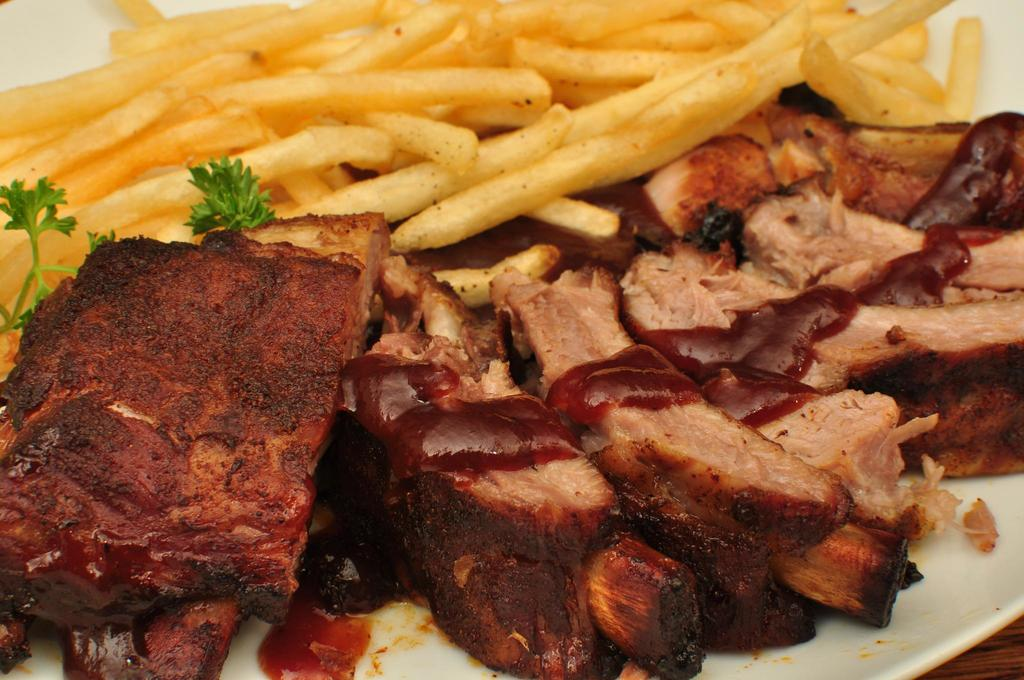French fries: (66, 4, 938, 259)
